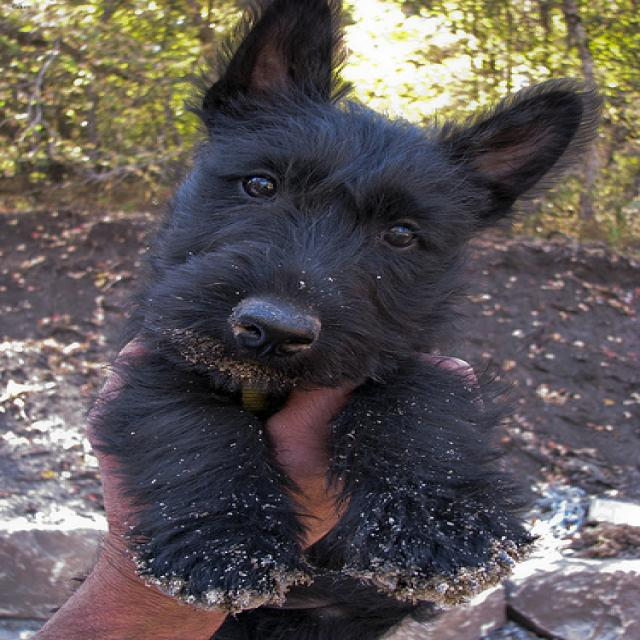dog-scottish_terrier: (82, 1, 606, 612)
